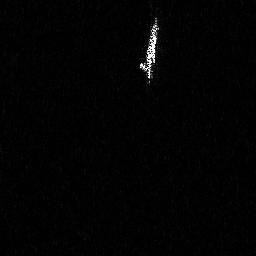ship: (137, 15, 160, 84)
